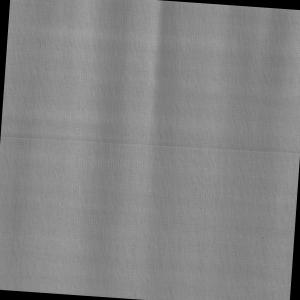Wrinkle: (1, 1, 203, 300), (230, 6, 300, 146)
